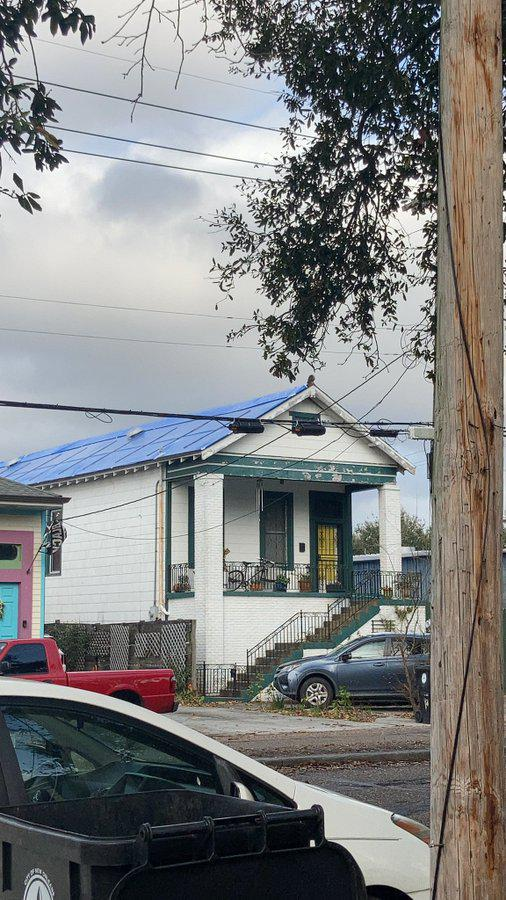affected: (0, 382, 408, 704)
